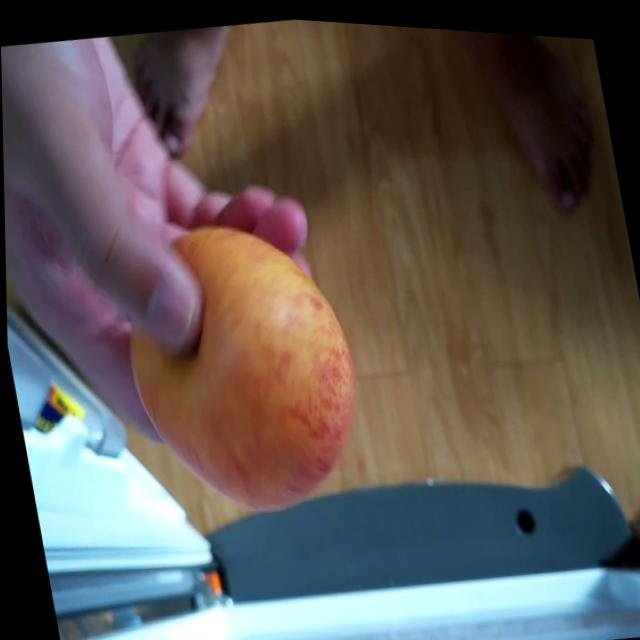apple: (108, 197, 379, 534)
